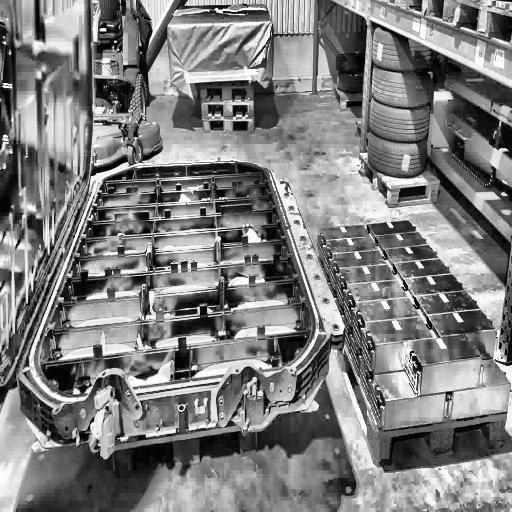b_casing: (0, 0, 348, 417)
battery_module: (369, 368, 447, 432), (401, 335, 484, 394), (449, 358, 511, 420), (363, 319, 436, 349), (353, 296, 424, 326), (428, 309, 496, 339), (418, 289, 482, 316), (338, 263, 400, 288), (345, 283, 410, 306), (403, 274, 465, 297), (331, 248, 390, 271), (395, 260, 453, 281), (386, 245, 442, 265), (325, 236, 380, 255), (376, 232, 431, 250), (319, 226, 372, 243), (368, 218, 419, 235)
